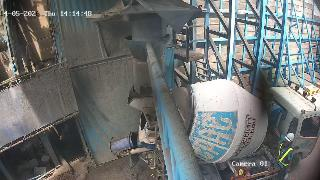cement_mixer_truck: (128, 79, 320, 180)
swing_chute: (125, 34, 170, 95)
